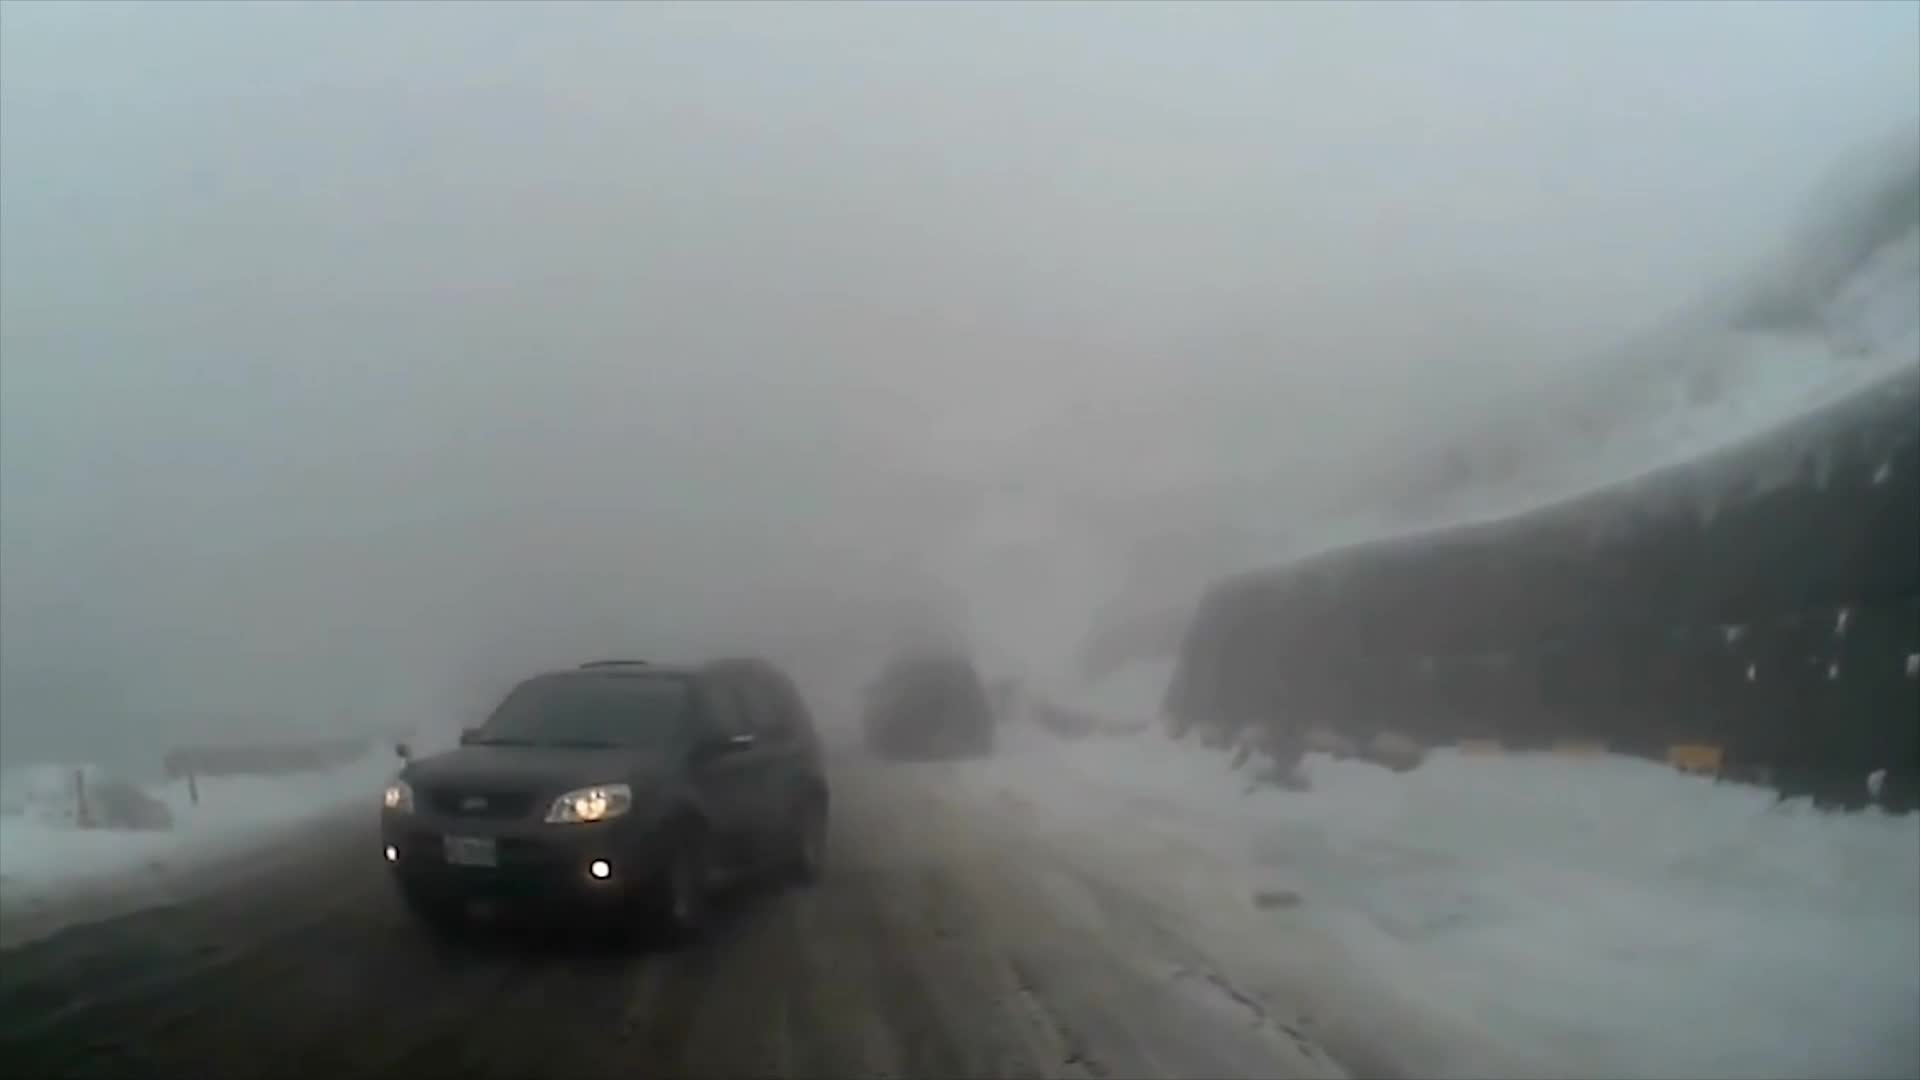vehicle: (378, 651, 833, 945), (860, 647, 993, 761)
